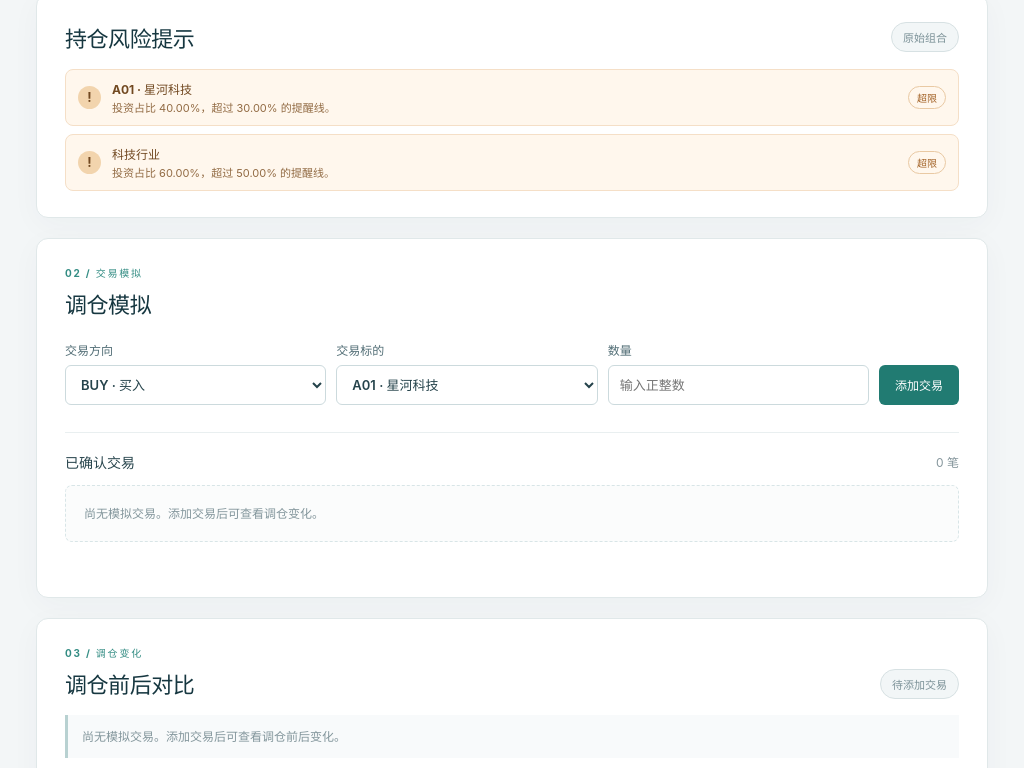
Test case: front-end state flow › AC-02 → AC-03: switches from no alerts to the simulated industry alert
(page scrolled)
Select "SELL · 卖出" in the dropdown labelled "交易方向" at (196, 385), box [65,365,326,405]
Type "100" into the number field labelled "数量" at (738, 385), box [608,365,869,405]
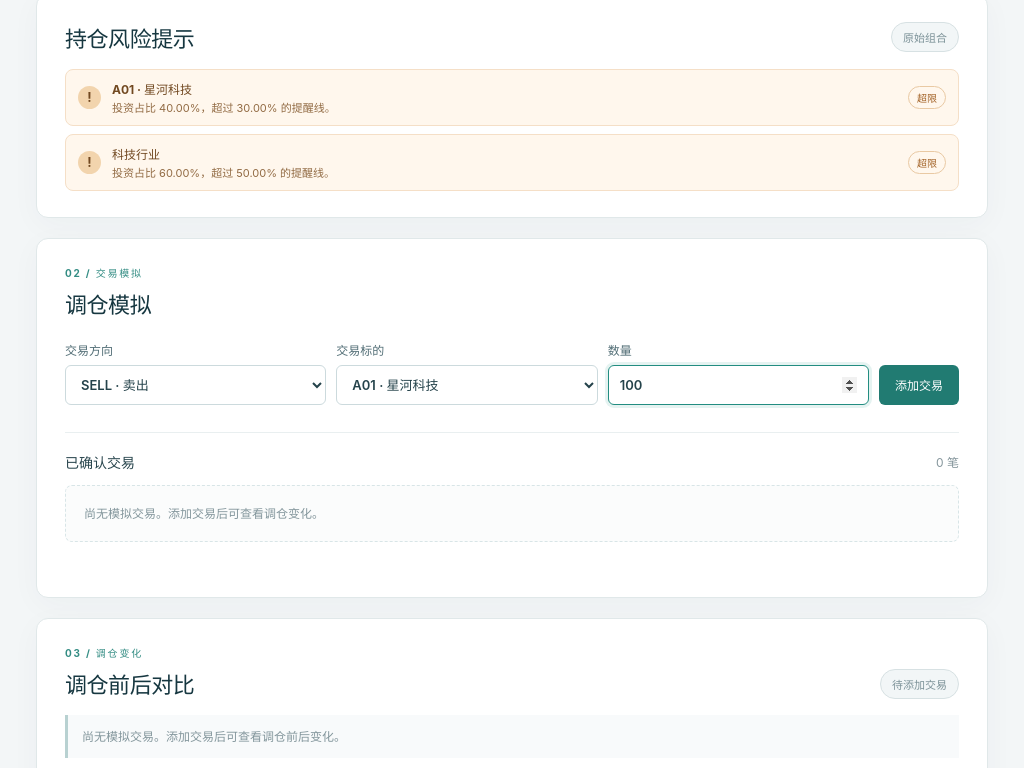
Click the button "添加交易" at (919, 385), box [879,365,959,405]
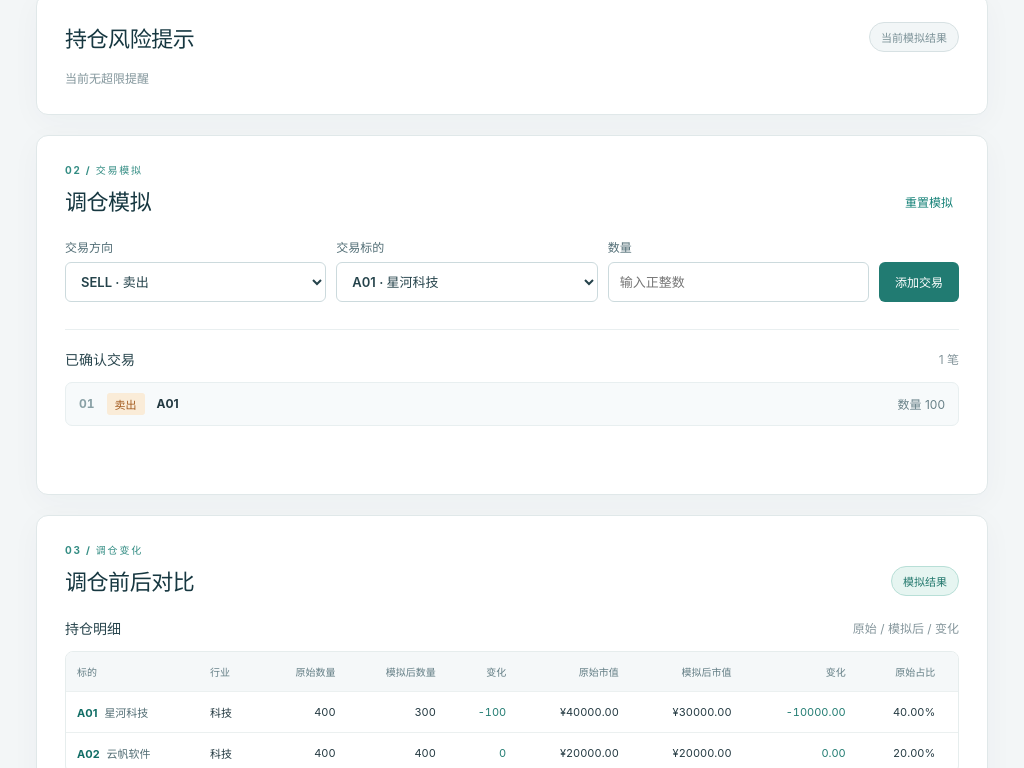
Expected: the text "1 笔" is shown, [939,350,959,368]
Expected: the text "当前无超限提醒" is shown, [65,71,149,86]
Select "BUY · 买入" in the dropdown labelled "交易方向" at (196, 282), box [65,262,326,302]
Select "A02 · 云帆软件" in the dropdown labelled "交易标的" at (467, 282), box [336,262,598,302]
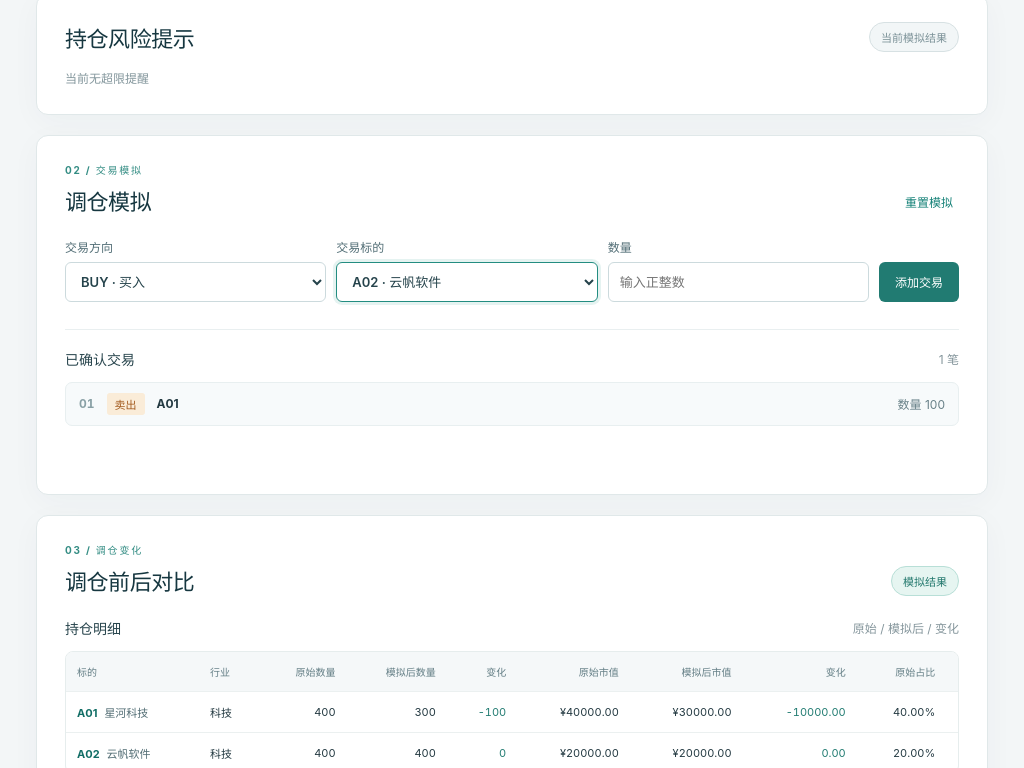
Type "100" into the number field labelled "数量" at (738, 282), box [608,262,869,302]
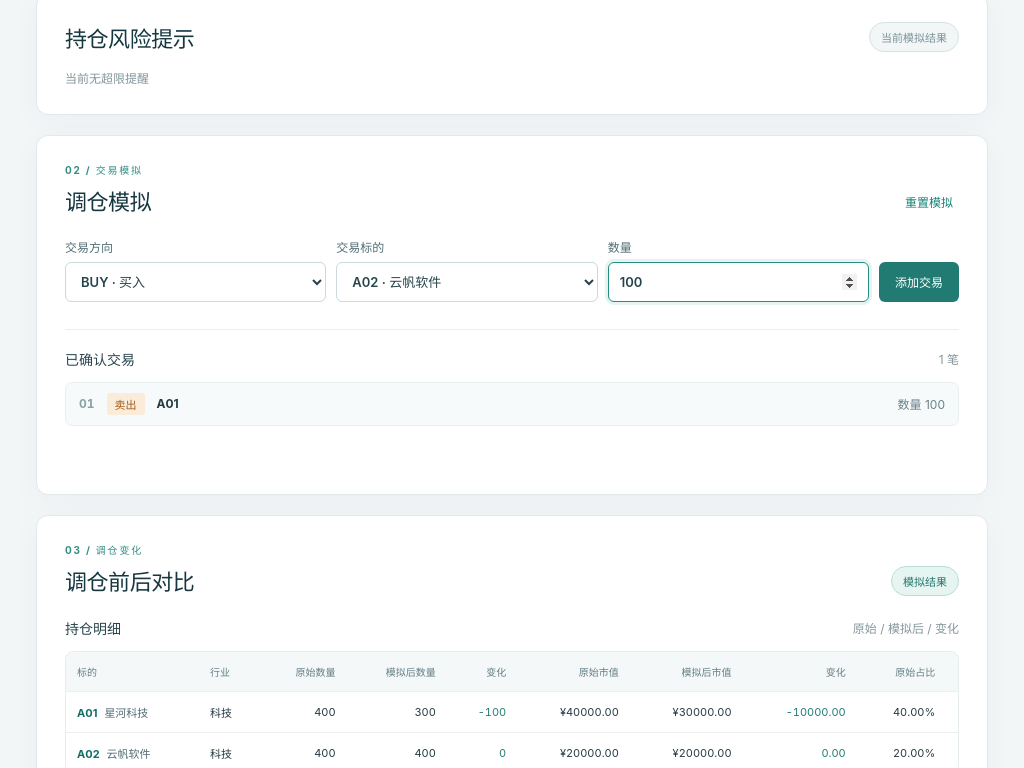
Click the button "添加交易" at (919, 282), box [879,262,959,302]
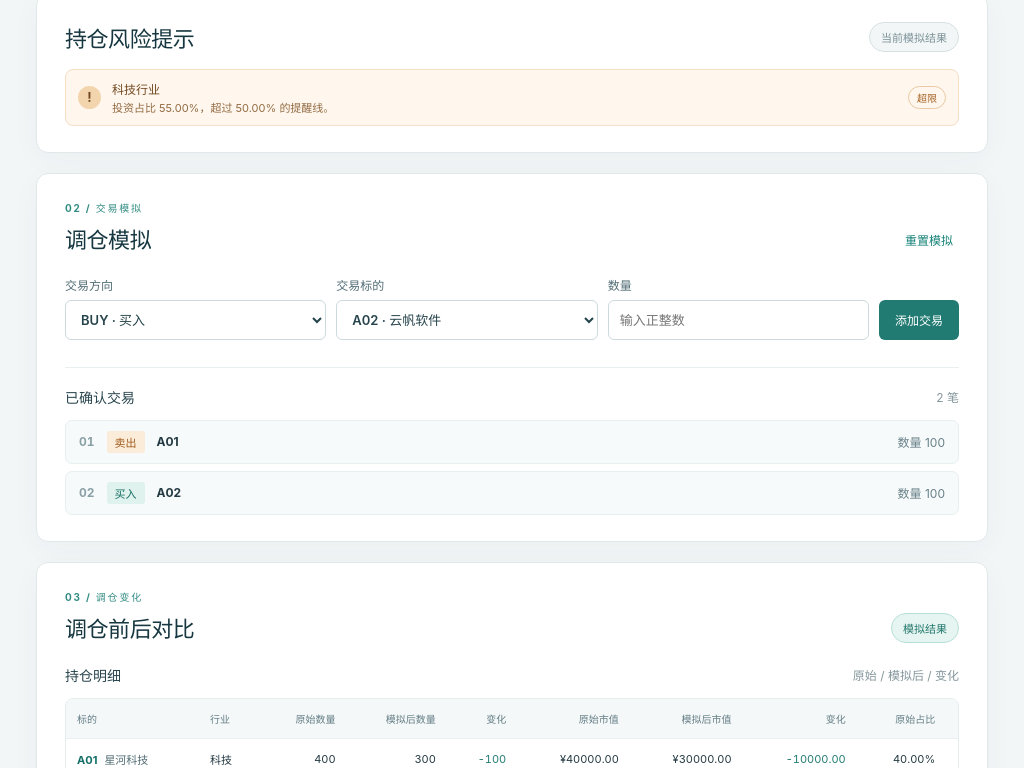
Expected: the text "2 笔" is shown, [936,388,959,405]
Expected: the text "超限" is shown once, [908,86,946,109]
Expected: the text "科技行业" is shown, [112,82,160,97]
Click the button "重置模拟" at (929, 239), box [899,225,959,254]
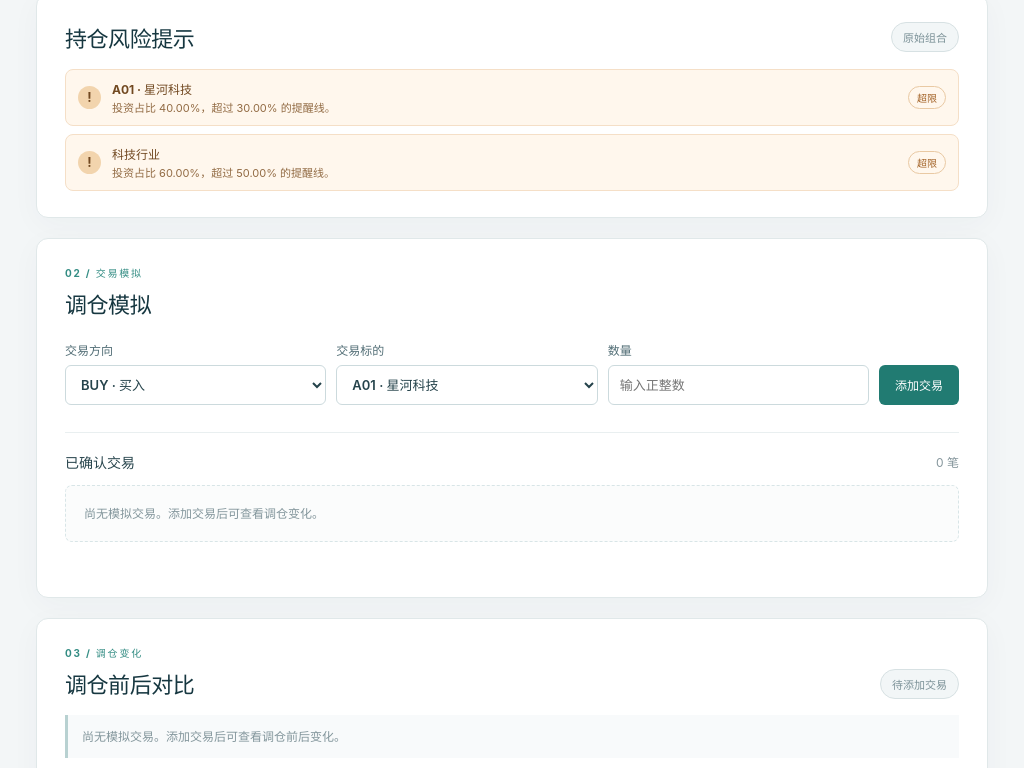
Expected: the text "超限" is shown 2 times, [908,86,946,109]; [908,151,946,174]
Expected: the text "尚无模拟交易。添加交易后可查看调仓变化。" is shown, [65,485,959,542]
